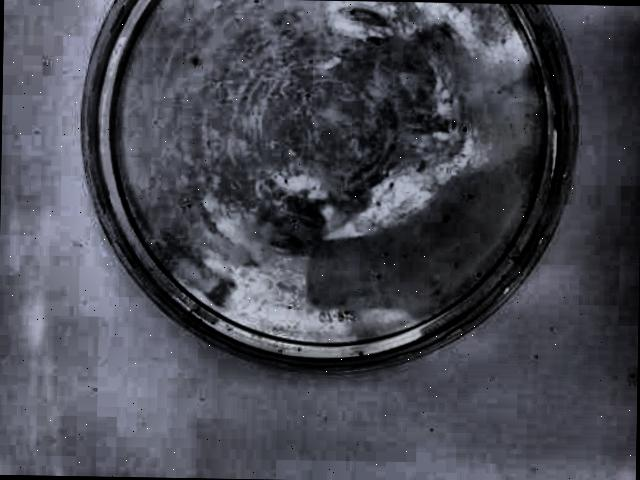Plastic: (83, 1, 591, 380)
